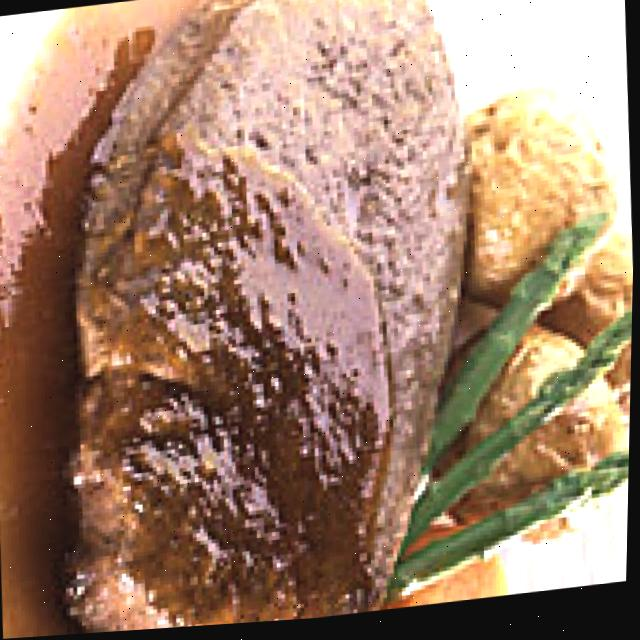牛肉菜式: (33, 0, 517, 638)
